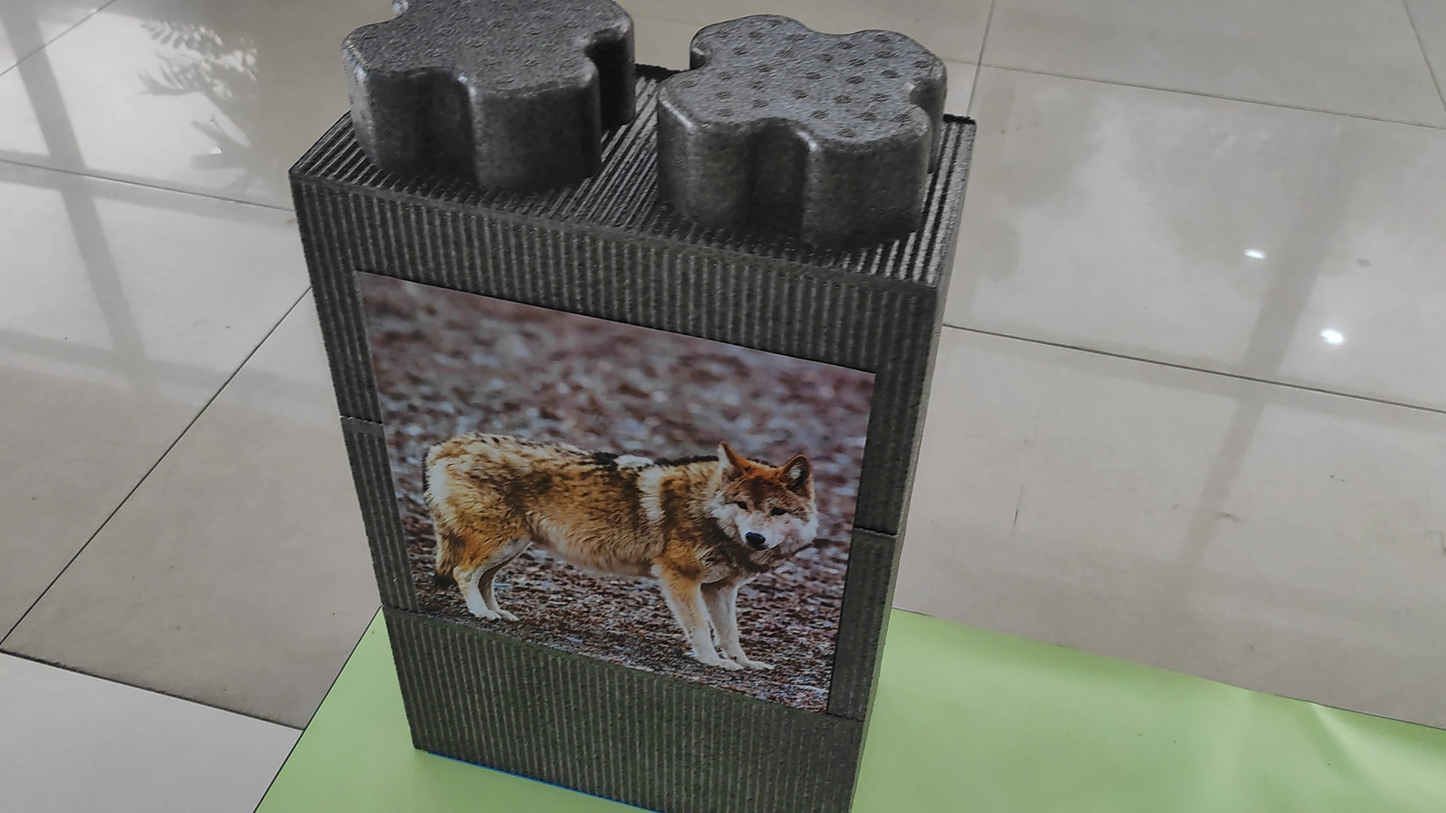wolf: (413, 409, 829, 690)
